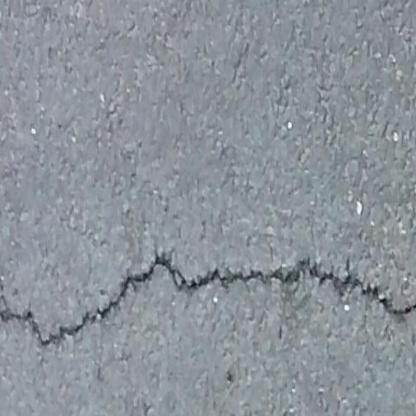Cracks: (0, 240, 416, 361)
